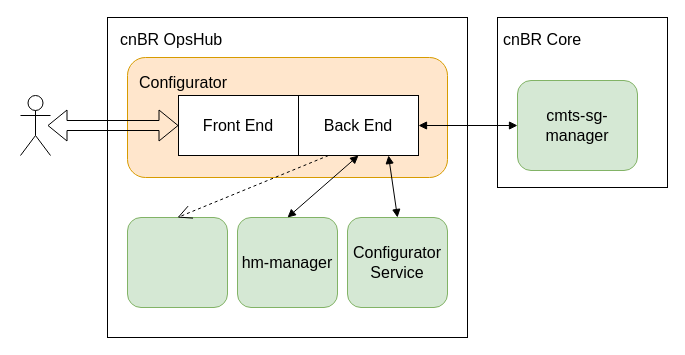
This 685x355 diagram has some shape labels left out. The shapes that lost their labels are listed below. From the top down, each one's centre as x and y in pixels, then its label:
At pixel 35 125: "Actor".
At pixel 177 262: "Postgres DB".
